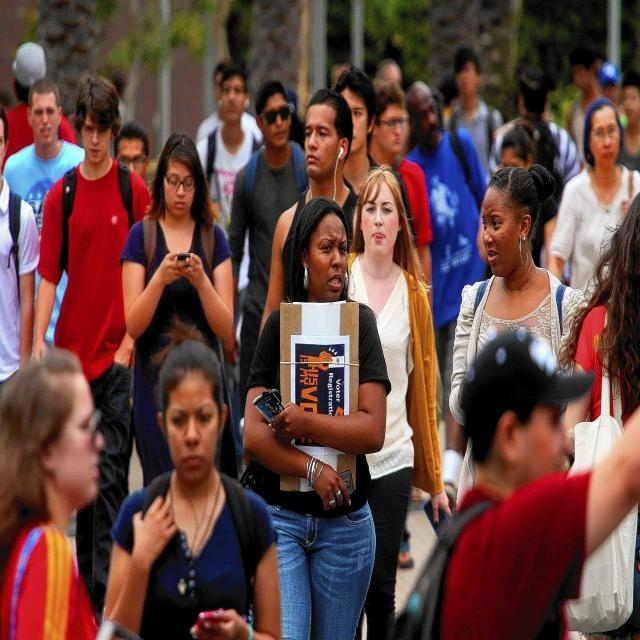body: (380, 316, 640, 640), (239, 194, 394, 639), (31, 72, 150, 620), (89, 335, 282, 640), (346, 162, 453, 640), (443, 164, 588, 516), (120, 126, 238, 492), (545, 228, 640, 640), (0, 346, 118, 640), (401, 79, 491, 456), (228, 78, 312, 470), (474, 56, 640, 231), (258, 87, 360, 345), (1, 72, 87, 356), (485, 59, 583, 288), (109, 53, 277, 185), (194, 64, 266, 340), (546, 96, 640, 304), (332, 64, 422, 281), (364, 78, 434, 322), (475, 114, 565, 286), (0, 82, 43, 416), (328, 51, 470, 134), (1, 39, 80, 178), (442, 45, 505, 188)
